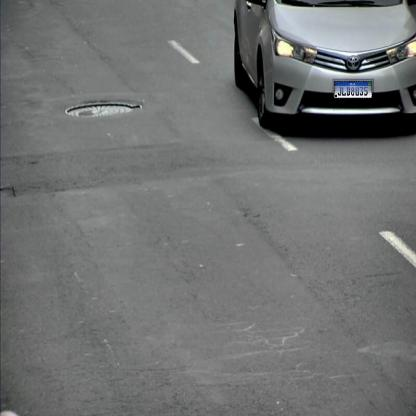PlacaM: (334, 81, 372, 99)
